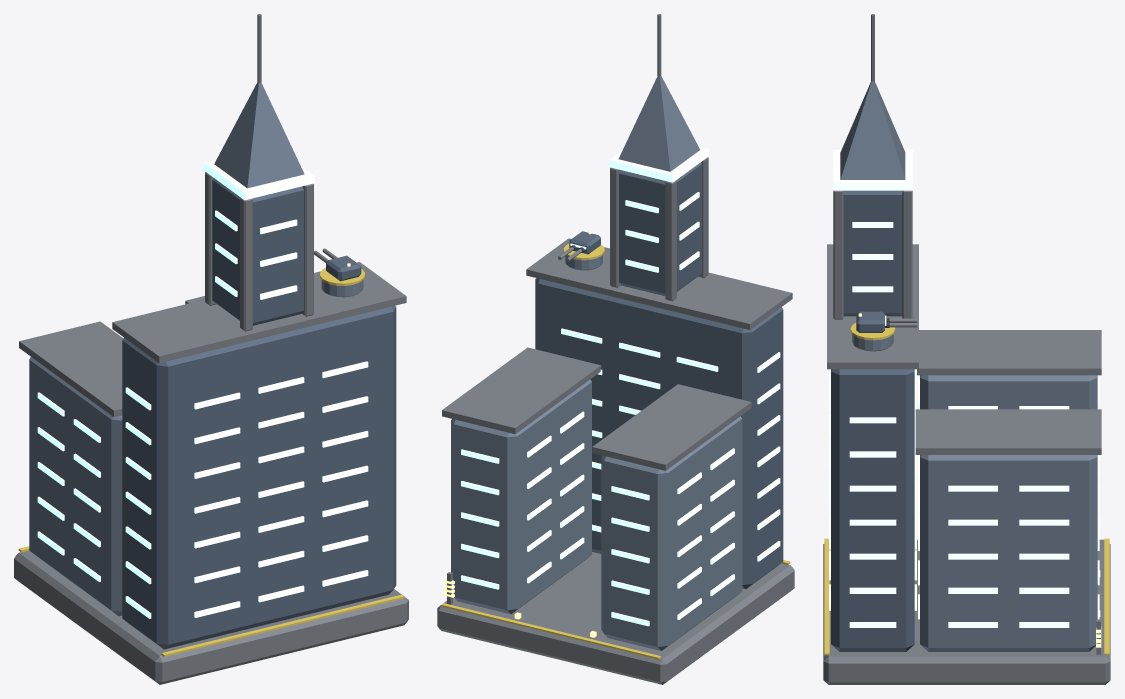
File: zone_high_3_t4.glb
3 renders of one model, left to right at view 1: azimuth 30°, elevation 25°; view 2: azimuth 150°, elevation 25°; view 3: azimuth 270°, elevation 25°, orthographic. The views are drawn at different scales.
Parts seen in each view (by area): view 1: zone_high_3_t4, detail; view 2: zone_high_3_t4, detail; view 3: zone_high_3_t4, detail.
Boxes of the visible parts, x1,y1,x2,y2 form: zone_high_3_t4: [14, 82, 408, 684]; detail: [18, 14, 404, 656]; zone_high_3_t4: [437, 76, 794, 684]; detail: [441, 14, 790, 659]; zone_high_3_t4: [823, 81, 1110, 684]; detail: [824, 14, 1109, 655].
Bounding box in the file's own units: 27.5 × 64.6 × 27.5.
